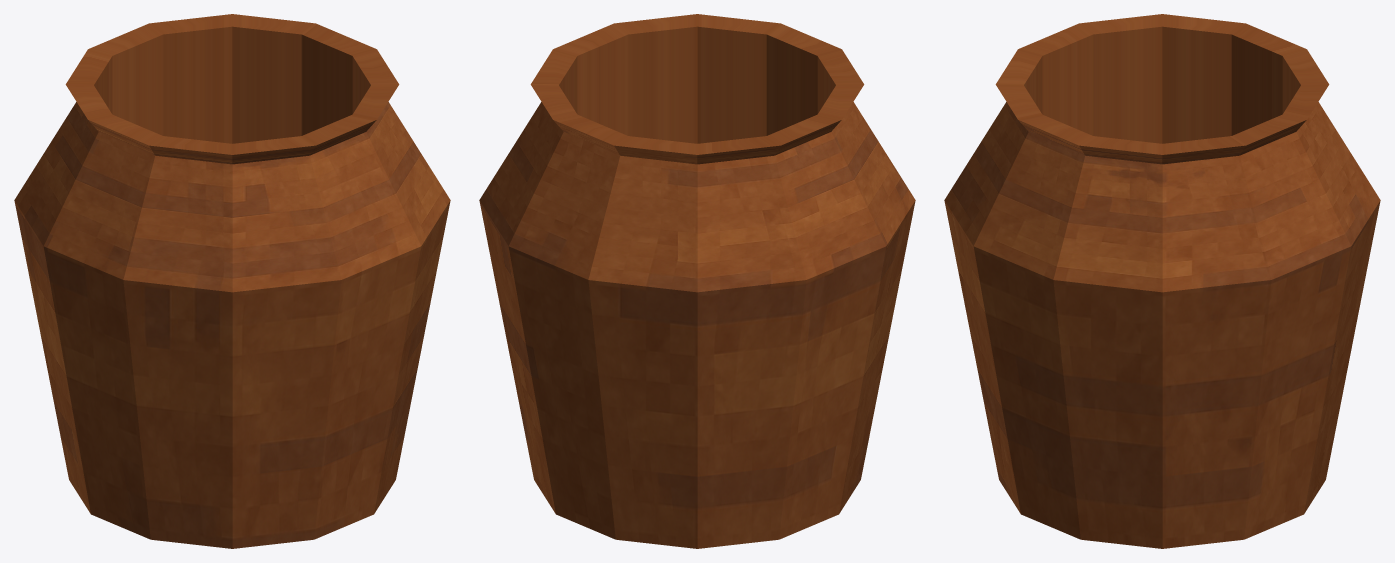
Rendered from CeramicVase.fbx.
The picture shows the model from 3 angles, left to right: view 1: azimuth 30°, elevation 25°; view 2: azimuth 150°, elevation 25°; view 3: azimuth 270°, elevation 25°; orthographic projection.
Parts seen in each view (by area): view 1: Cylinder.002; view 2: Cylinder.002; view 3: Cylinder.002.
Part boxes in pixels (x1,y1,x2,y2): Cylinder.002: [14, 14, 450, 548]; Cylinder.002: [479, 14, 915, 548]; Cylinder.002: [944, 14, 1380, 548].
Size of the model in its own units: 15 by 15 by 15.
1 material, 1 textured.
